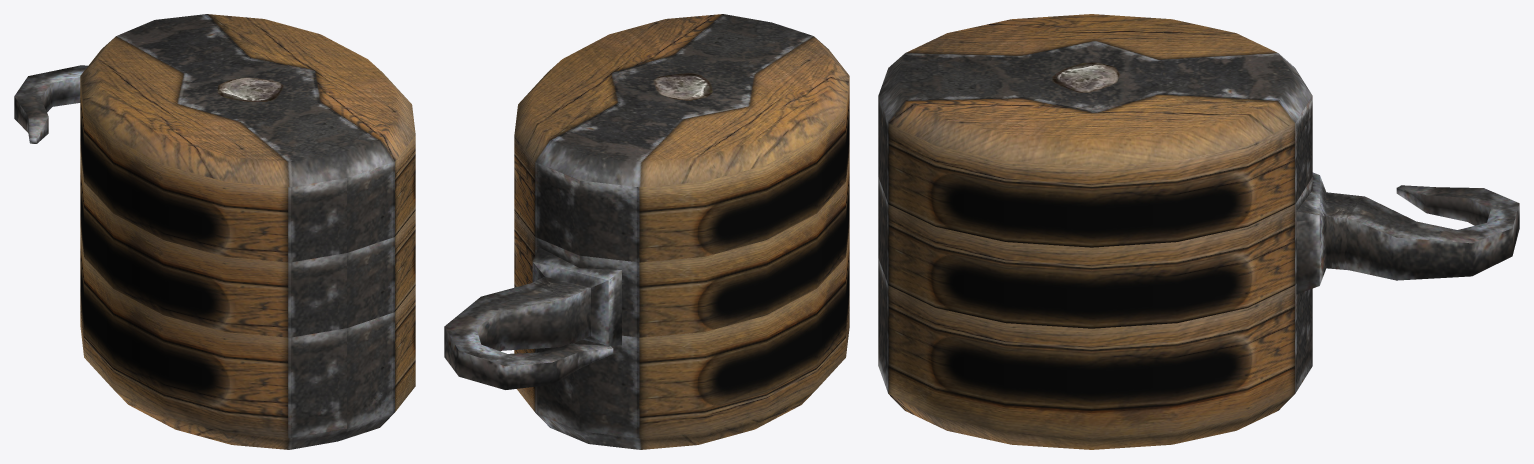
Rendered from Pulley 6 Hook.fbx.
3 views of the same model, side by side, from view 1: azimuth 30°, elevation 25°; view 2: azimuth 150°, elevation 25°; view 3: azimuth 270°, elevation 25° (orthographic). The views are drawn at different scales.
Parts seen in each view (by area): view 1: reinforced block triple; view 2: reinforced block triple; view 3: reinforced block triple.
Boxes of the visible parts, <box> form: reinforced block triple: <box>14,14,415,449</box>; reinforced block triple: <box>444,14,849,449</box>; reinforced block triple: <box>878,14,1519,449</box>.
Bounding box in the file's own units: 24.27 × 46.34 × 24.71.
Materials: 1 (1 with a texture image).
